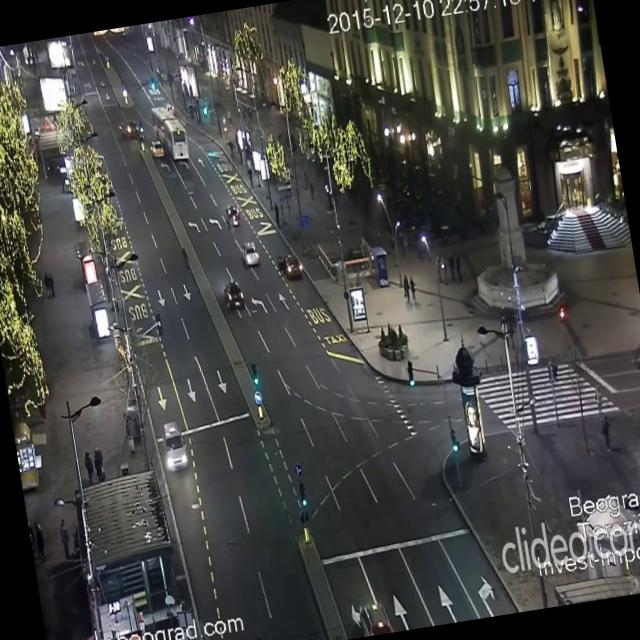bus: (150, 102, 190, 164)
car: (159, 420, 190, 473), (356, 603, 392, 638), (278, 247, 303, 277), (222, 278, 245, 310), (240, 240, 260, 267), (226, 202, 243, 230), (118, 117, 137, 139), (152, 141, 166, 161)
